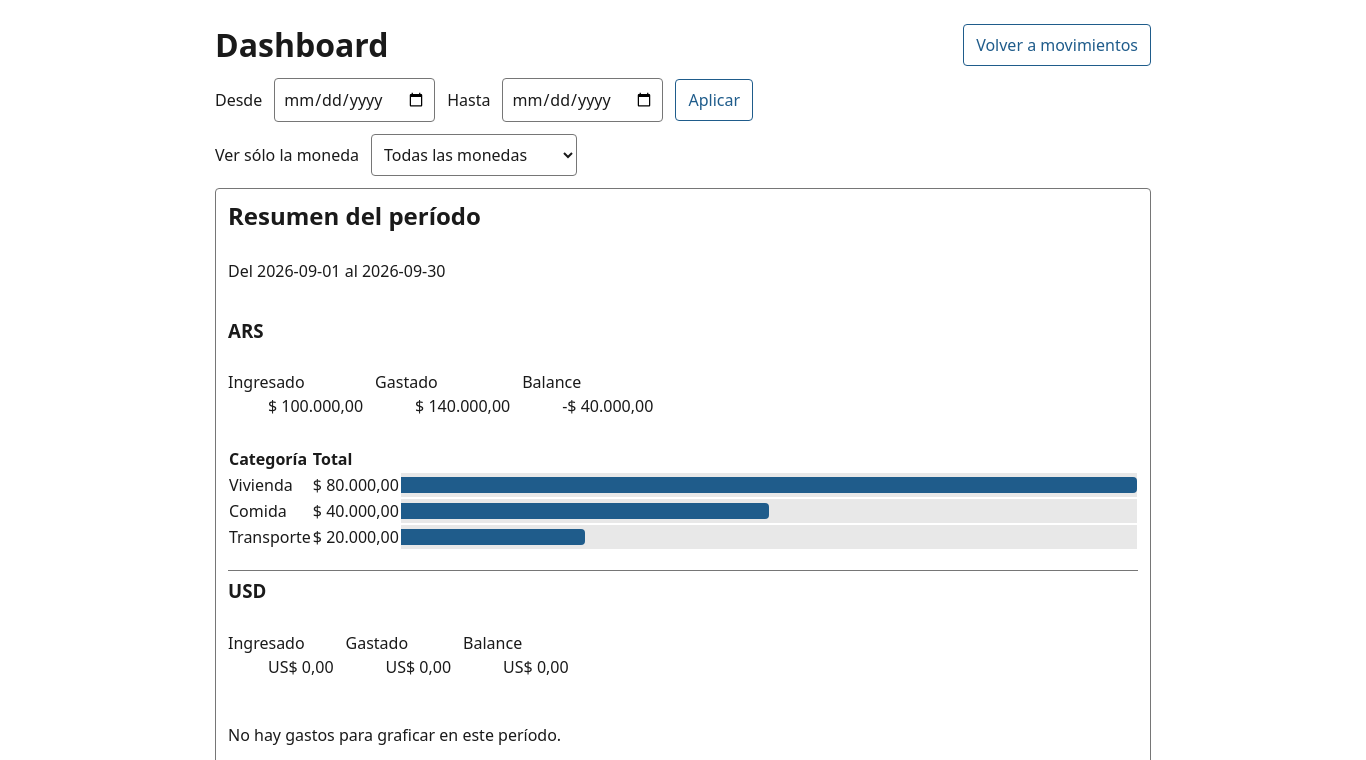
PantallaDashboard — el período › el mensaje del rechazo se muestra junto al control del período FR-005
Type "2026-09-30" into the date field labelled "Desde" at coordinates (355, 100), box [274,78,435,122]
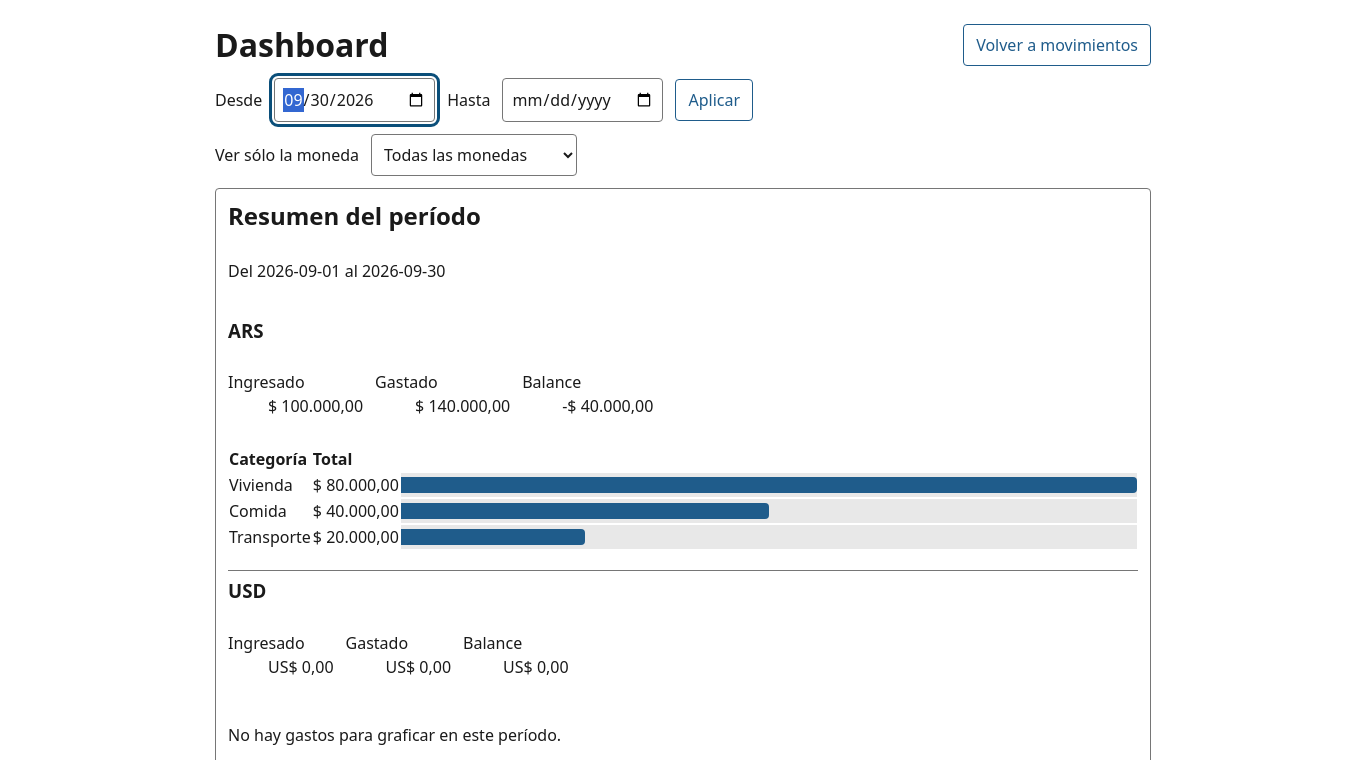
Type "2026-09-01" into the date field labelled "Hasta" at coordinates (583, 100), box [502,78,664,122]
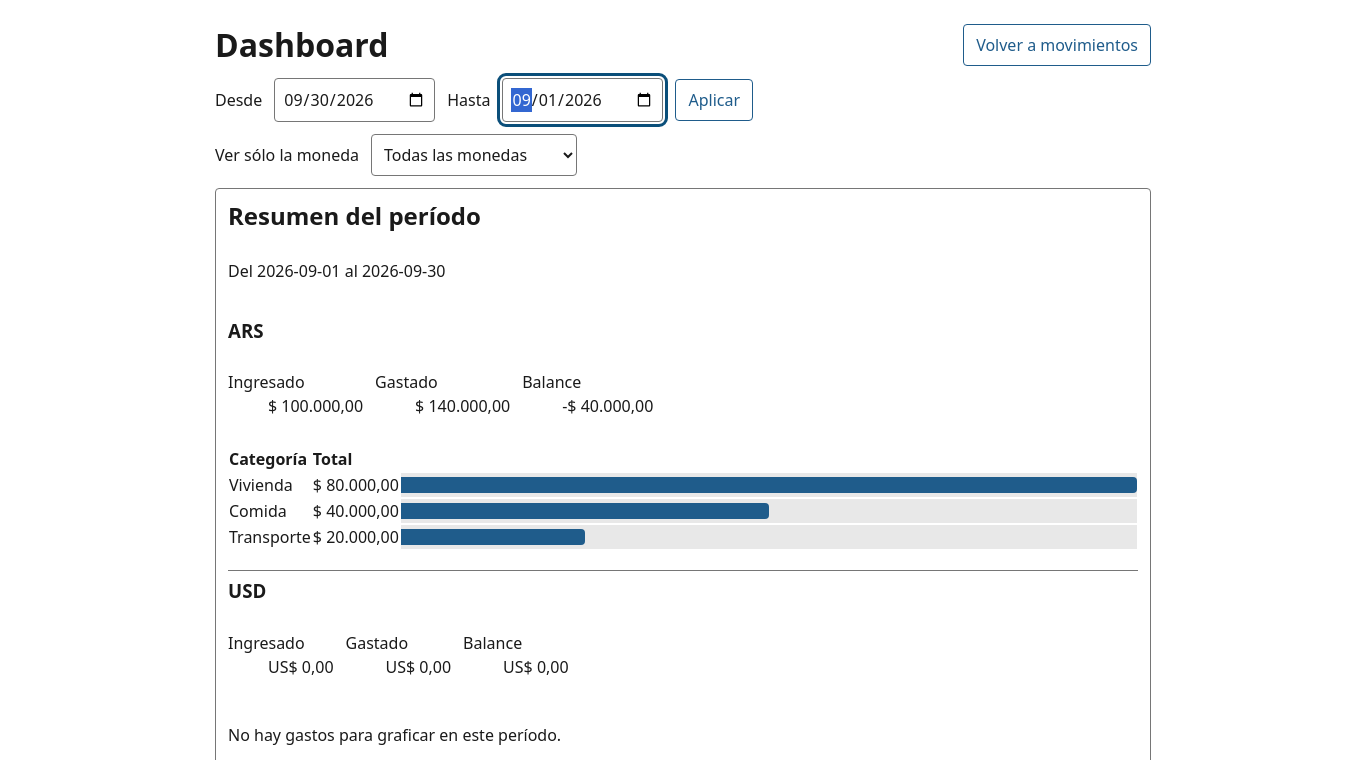
Click the button "Aplicar" at coordinates (714, 100), box [676,79,753,121]
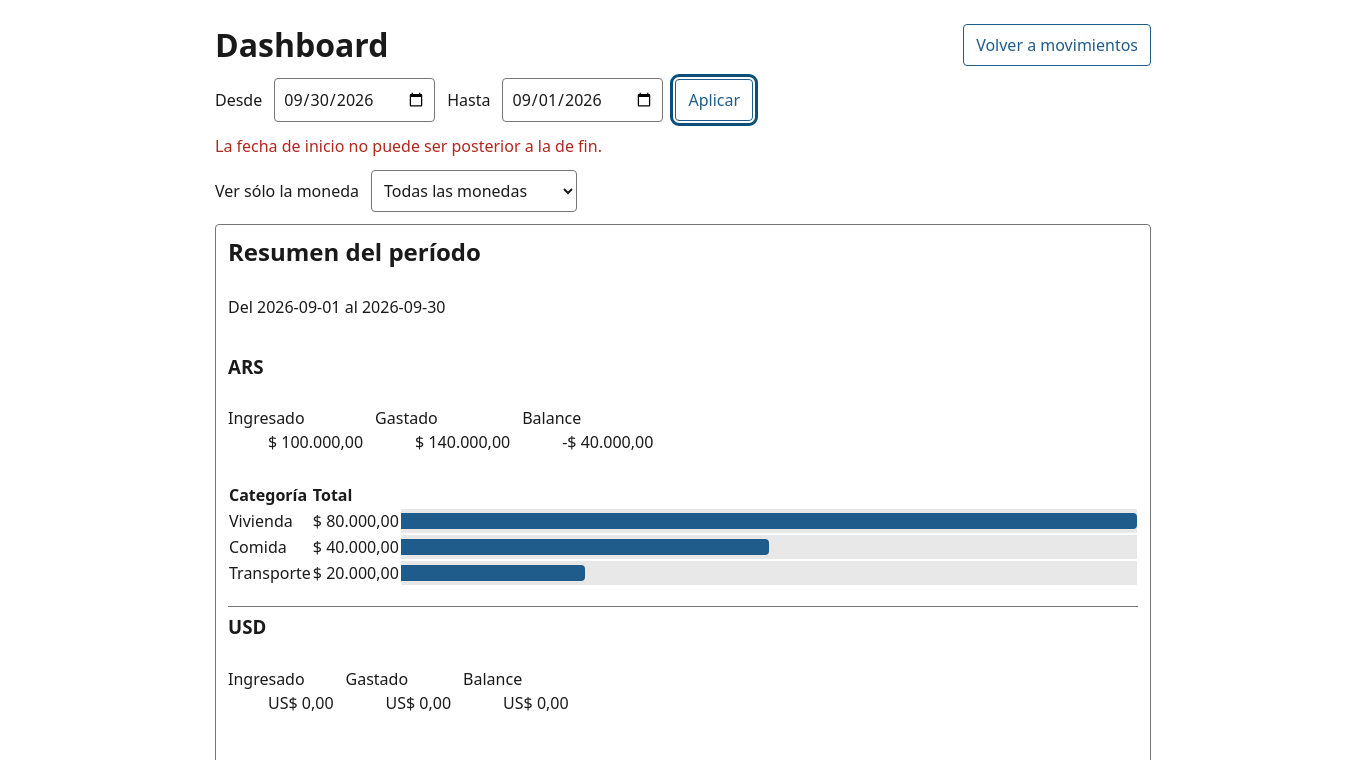
Now the text "La fecha de inicio no puede ser posterior a la de fin." is shown, box [215,134,602,158]
